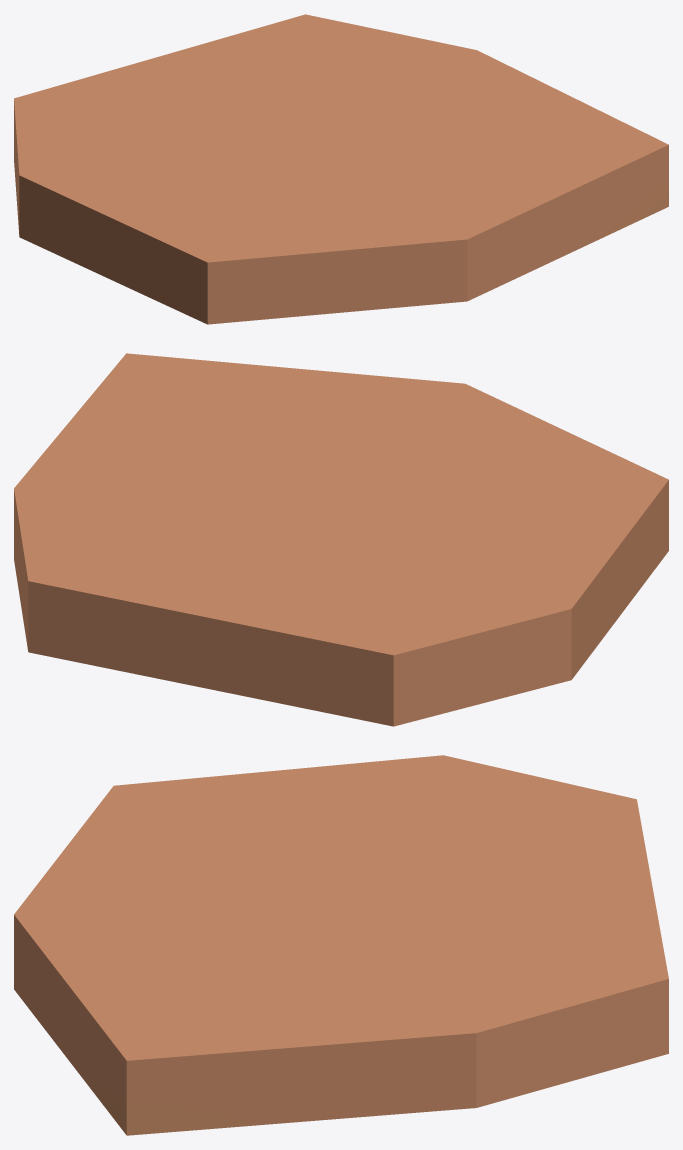
File: gachsan_007.fbx
3 renders of one model, top to bottom at view 1: azimuth 30°, elevation 25°; view 2: azimuth 150°, elevation 25°; view 3: azimuth 270°, elevation 25°, orthographic. The views are drawn at different scales.
Visible parts, largest first — view 1: gachsan_007; view 2: gachsan_007; view 3: gachsan_007.
Part boxes in pixels (x1,y1,x2,y2): gachsan_007: [14, 14, 668, 324]; gachsan_007: [14, 353, 668, 726]; gachsan_007: [14, 755, 668, 1135].
Size of the model in its own units: 82.39 by 9.41 by 74.62.
